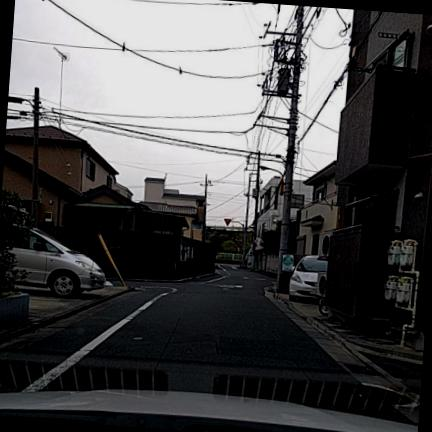Road: (0, 266, 409, 421)
